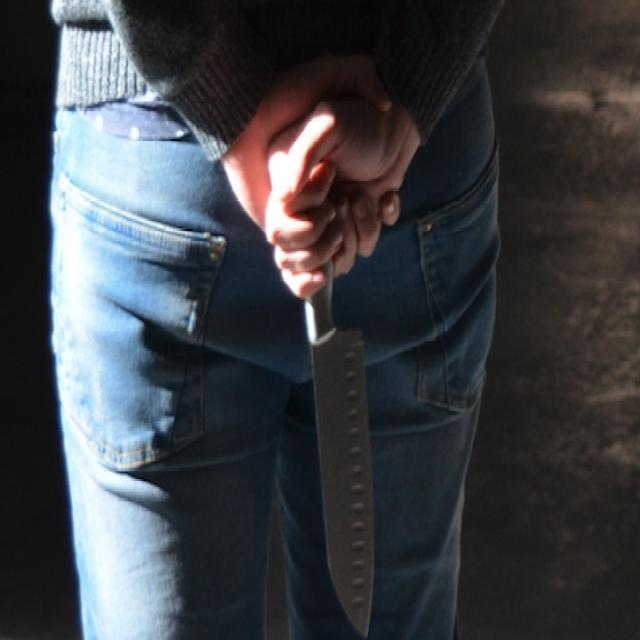suspicion: (259, 0, 490, 638), (302, 270, 377, 634)
